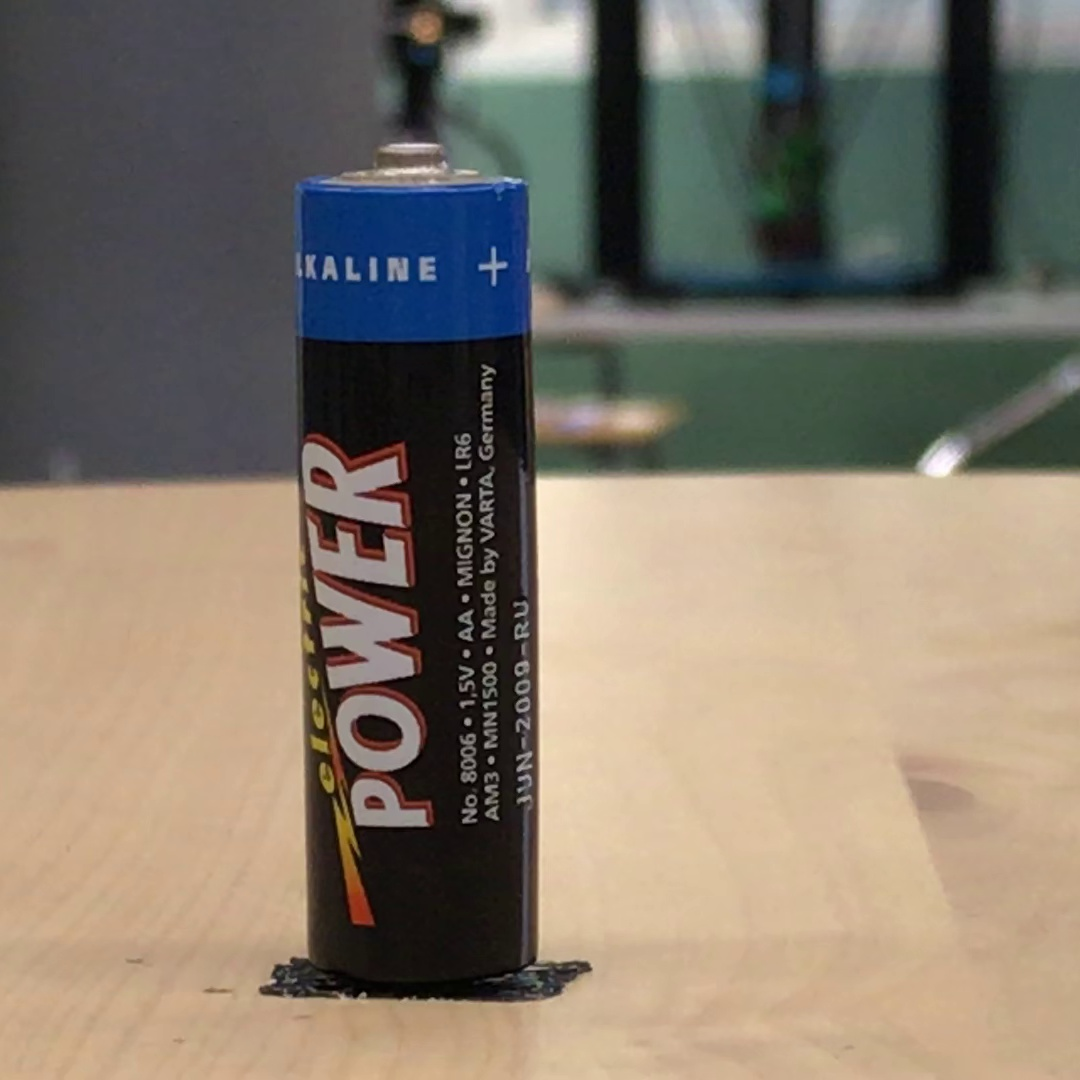keyword: (450, 657, 484, 717), (446, 424, 481, 479)
